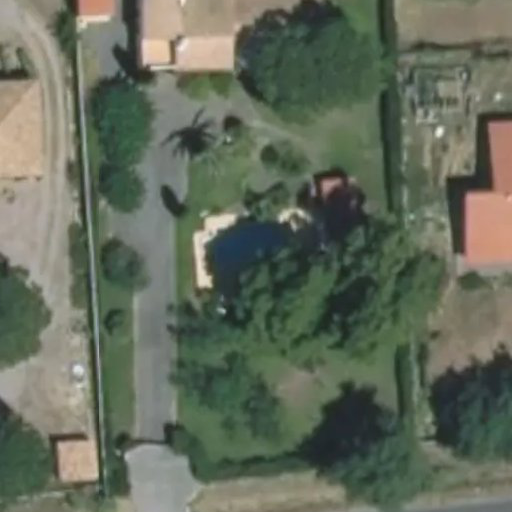pool: (219, 224, 292, 259)
